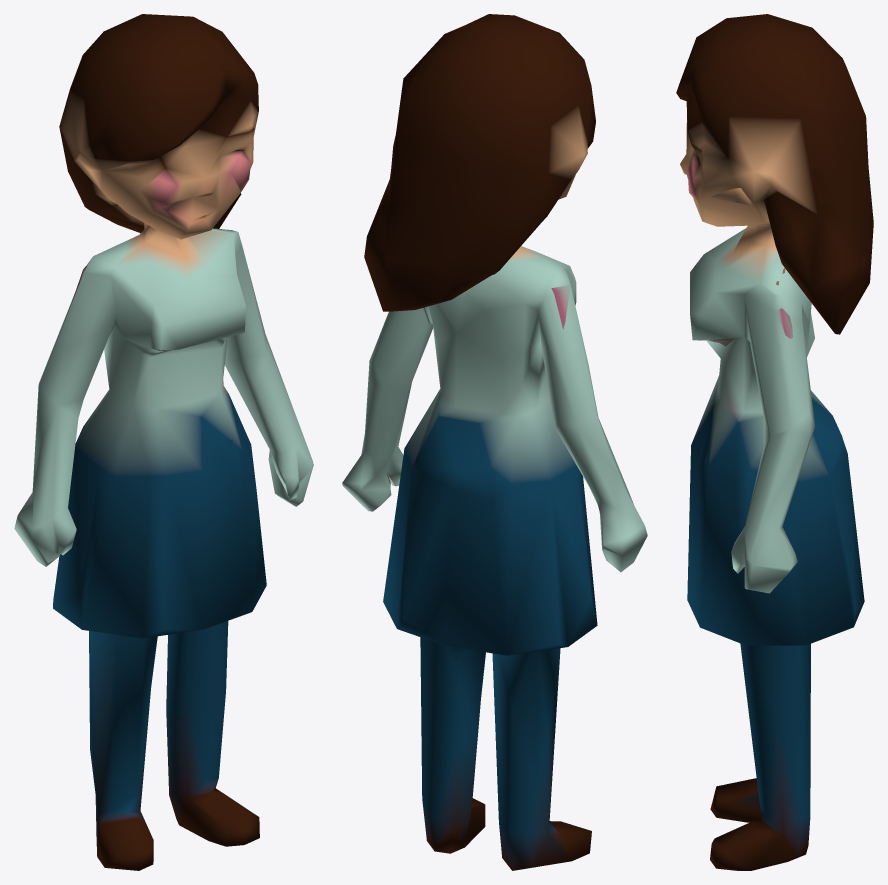
File: gen3d-mom-lod1.glb
The picture shows the model from 3 angles, left to right: view 1: azimuth 30°, elevation 25°; view 2: azimuth 150°, elevation 25°; view 3: azimuth 270°, elevation 25°; orthographic projection.
Visible parts, largest first — view 1: part_0; view 2: part_0; view 3: part_0.
Boxes of the visible parts, x1=… form: part_0: x1=14, y1=14, x2=313, y2=870; part_0: x1=342, y1=14, x2=647, y2=870; part_0: x1=676, y1=14, x2=873, y2=870.
Size of the model in its own units: 0.3622 by 0.9999 by 0.2207.
